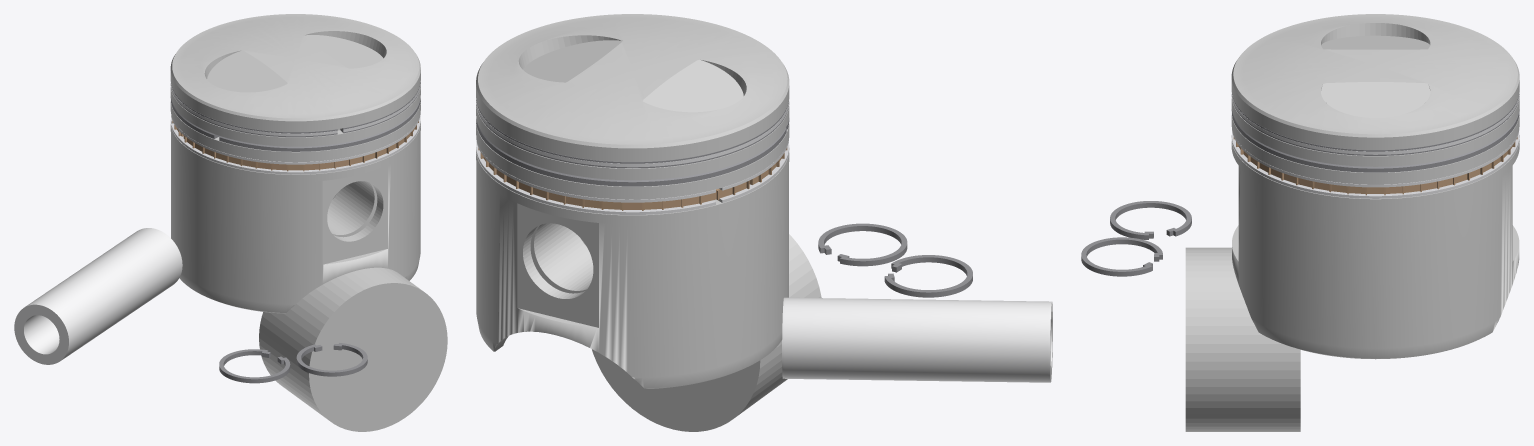
Rendered from piston.glb.
3 renders of one model, left to right at view 1: azimuth 30°, elevation 25°; view 2: azimuth 150°, elevation 25°; view 3: azimuth 270°, elevation 25°, orthographic. The views are drawn at different scales.
Parts seen in each view (by area): view 1: piston__skirt, piston__crown, piston__gudgeon_pin, piston__ring_oil, piston__circlips, piston__ring_second, piston__ring_top; view 2: piston__skirt, piston__crown, piston__gudgeon_pin, piston__ring_oil, piston__circlips, piston__ring_top, piston__ring_second; view 3: piston__skirt, piston__crown, piston__ring_oil, piston__circlips, piston__ring_second, piston__ring_top.
Part boxes in pixels (x1=…): piston__skirt: x1=171, y1=133, x2=447, y2=431; piston__crown: x1=170, y1=14, x2=420, y2=181; piston__gudgeon_pin: x1=14, y1=228, x2=182, y2=364; piston__ring_oil: x1=171, y1=113, x2=420, y2=174; piston__circlips: x1=219, y1=343, x2=367, y2=383; piston__ring_second: x1=170, y1=96, x2=420, y2=151; piston__ring_top: x1=170, y1=81, x2=420, y2=137; piston__skirt: x1=476, y1=163, x2=821, y2=431; piston__crown: x1=476, y1=14, x2=789, y2=224; piston__gudgeon_pin: x1=782, y1=297, x2=1052, y2=382; piston__ring_oil: x1=476, y1=137, x2=789, y2=214; piston__circlips: x1=818, y1=223, x2=972, y2=297; piston__ring_top: x1=476, y1=98, x2=789, y2=168; piston__ring_second: x1=476, y1=118, x2=789, y2=186; piston__skirt: x1=1185, y1=166, x2=1519, y2=431; piston__crown: x1=1231, y1=14, x2=1519, y2=207; piston__ring_oil: x1=1231, y1=129, x2=1519, y2=198; piston__circlips: x1=1081, y1=201, x2=1191, y2=276; piston__ring_second: x1=1231, y1=109, x2=1519, y2=172; piston__ring_top: x1=1231, y1=92, x2=1519, y2=155.
Size of the model in its own units: 9.59 by 6.86 by 7.61.
